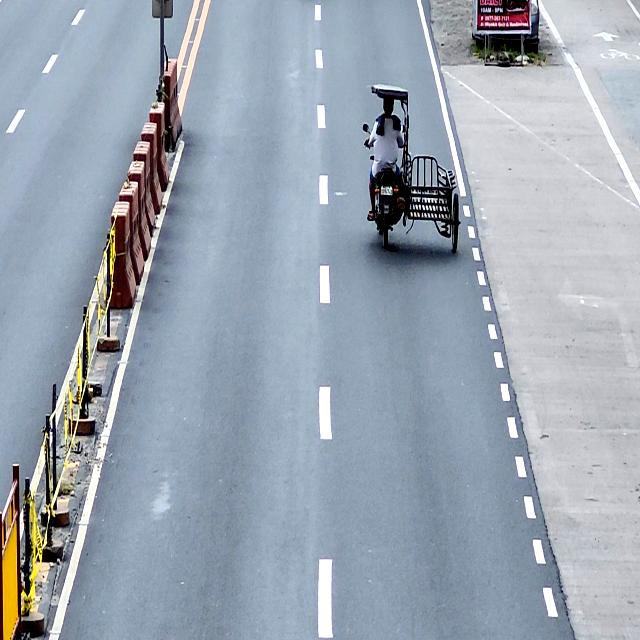License-Plate: (380, 185, 393, 195)
Tricycle: (362, 84, 462, 253)
